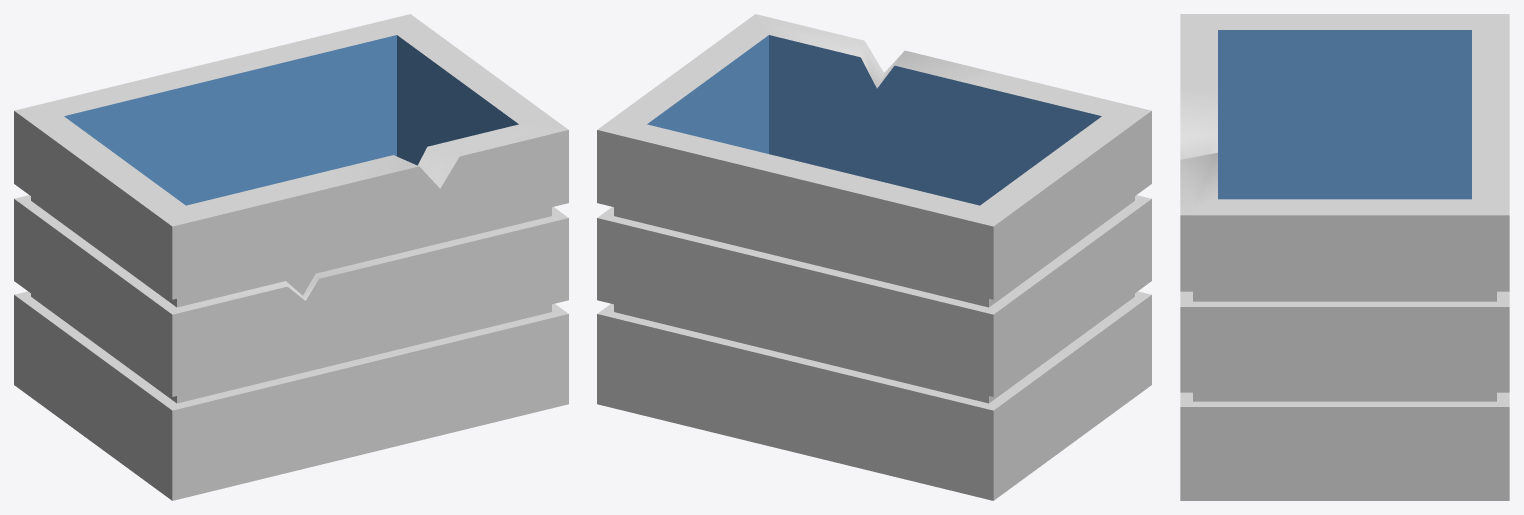
File: Cartridge_box.fbx
3 renders of one model, left to right at view 1: azimuth 30°, elevation 25°; view 2: azimuth 150°, elevation 25°; view 3: azimuth 270°, elevation 25°, orthographic. The views are drawn at different scales.
Parts seen in each view (by area): view 1: Cartridge_box; view 2: Cartridge_box; view 3: Cartridge_box.
Part boxes in pixels (x1=…): Cartridge_box: x1=14, y1=14, x2=568, y2=500; Cartridge_box: x1=597, y1=14, x2=1151, y2=500; Cartridge_box: x1=1180, y1=14, x2=1509, y2=500.
Size of the model in its own units: 35.73 by 23.64 by 24.72.
